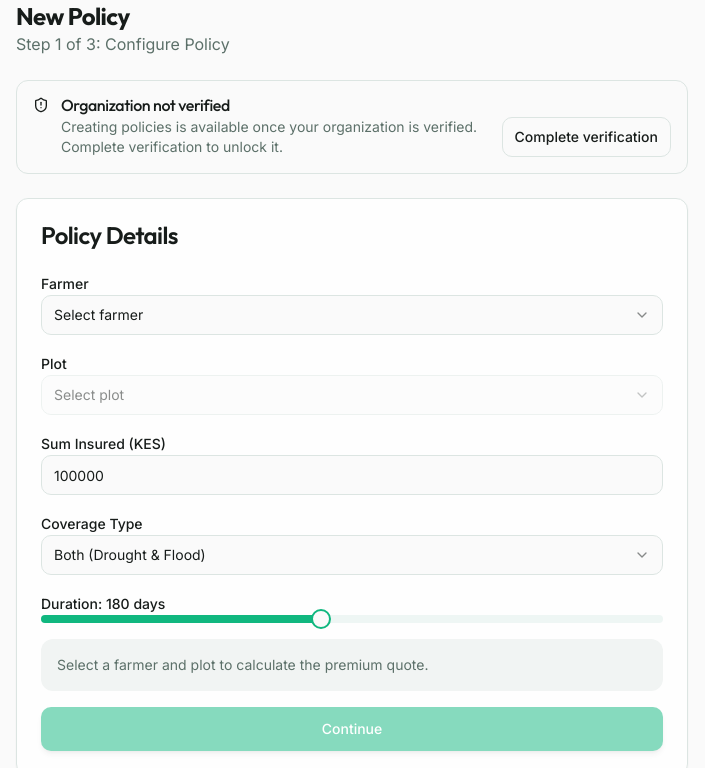
NewPolicyPage and the catalogue › disables Create Policy if the crop stops being sellable after Continue
Later steps or results of the test are not shown.
Click the dropdown labelled "Select farmer": (99, 314) [41,295,663,335]
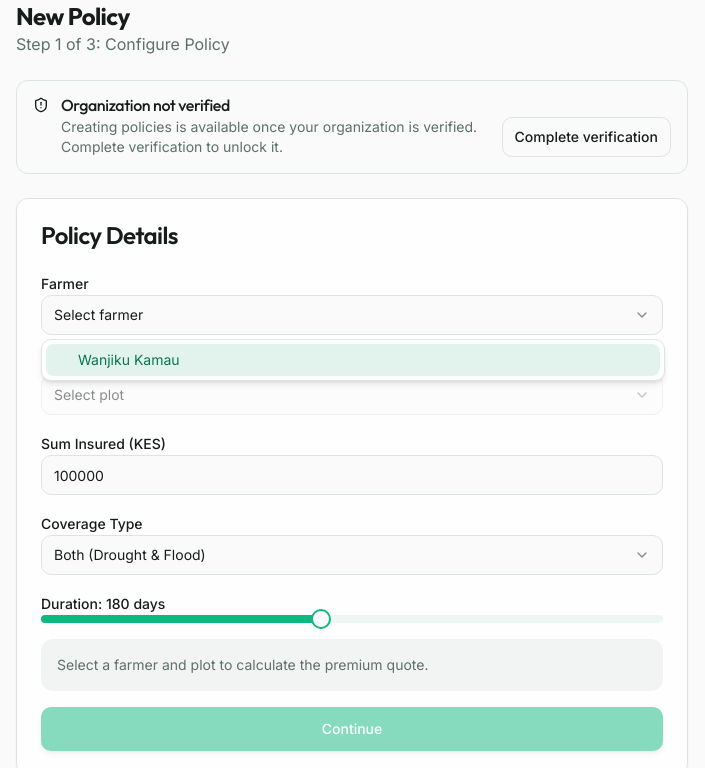
Click the option "Wanjiku Kamau": (104, 360) [46,344,660,376]
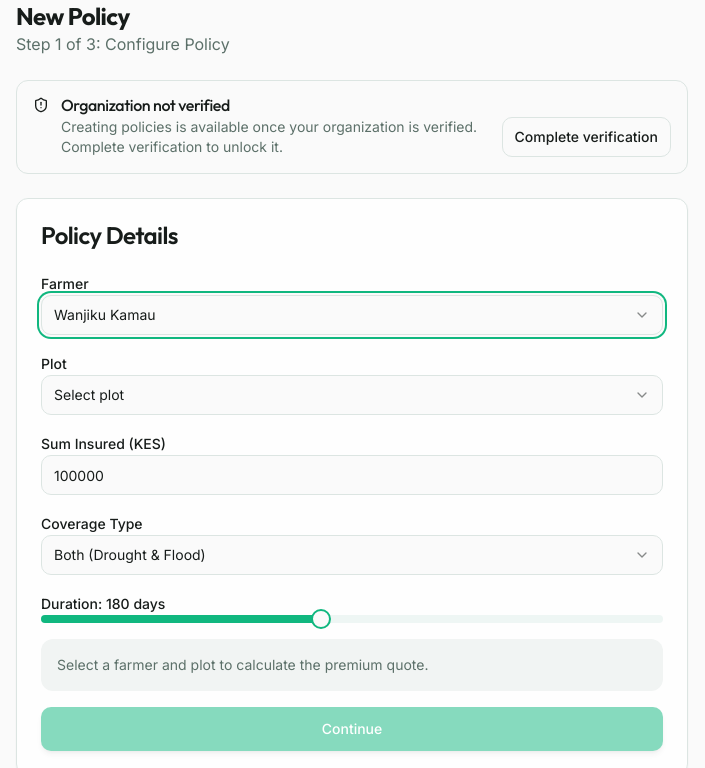
Click the dropdown labelled "Select plot": (89, 394) [41,375,663,415]
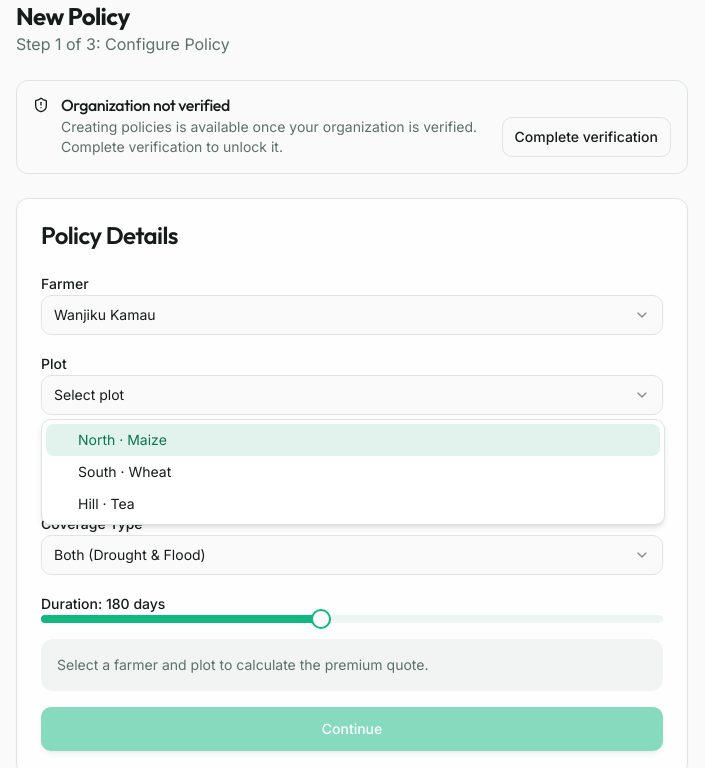
Click the option "North · Maize": (97, 440) [46,424,660,456]
(page scrolled)
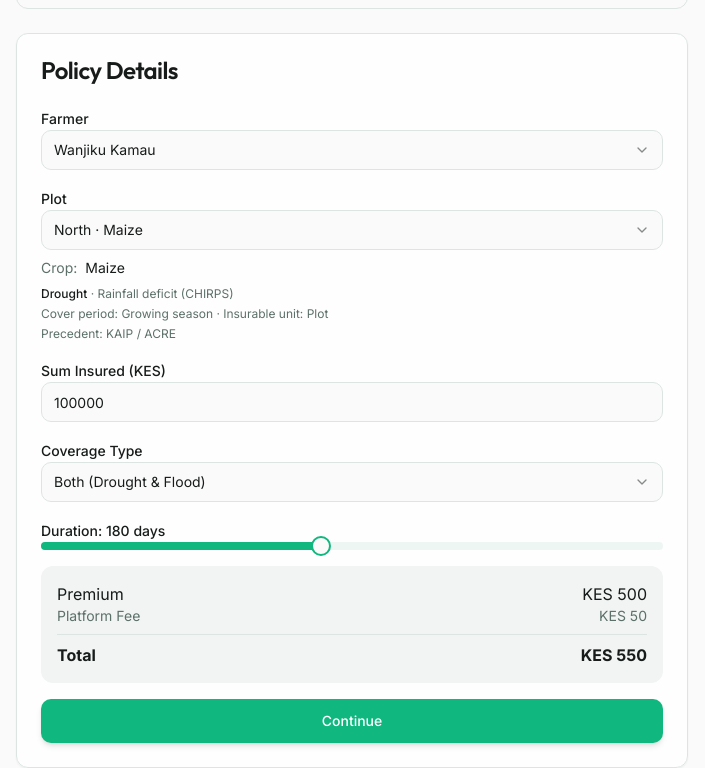
Expected: the text "Premium" is shown, [57,582,124,606]
Click the button "Continue": (352, 721) [41,699,663,743]
(page scrolled)
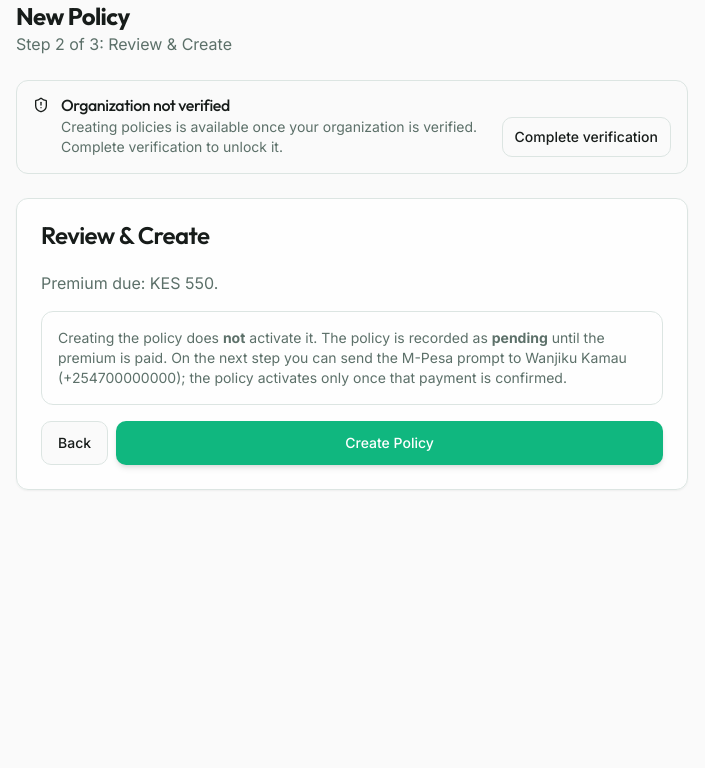
Expected: the button "Create Policy" is enabled, [116,421,663,465]
